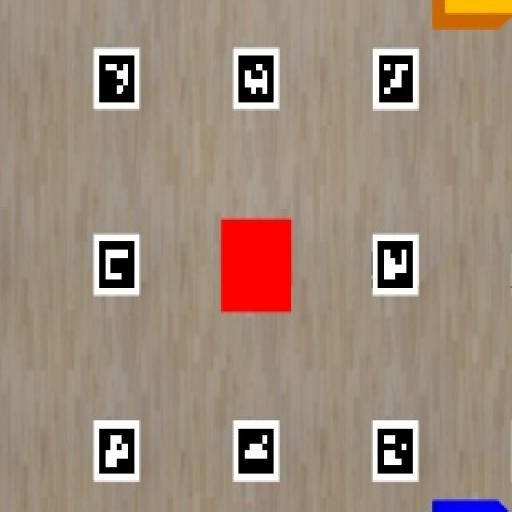car: (432, 500, 508, 511)
fire: (221, 218, 292, 313), (432, 0, 511, 29)
